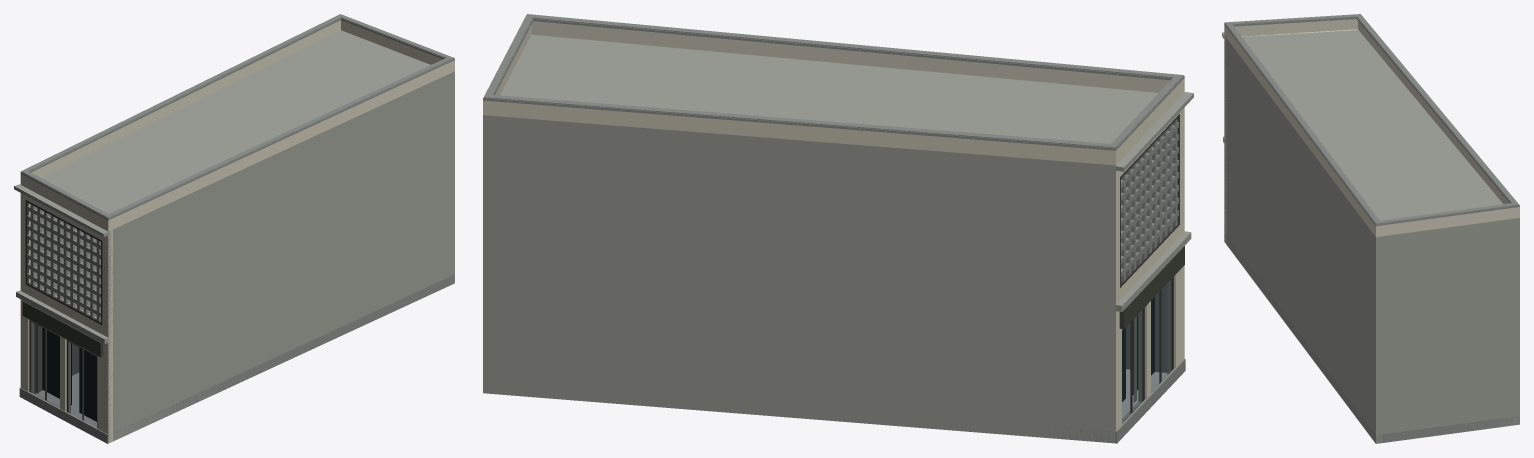
Rendered from building.glb.
3 renders of one model, left to right at view 1: azimuth 30°, elevation 25°; view 2: azimuth 150°, elevation 25°; view 3: azimuth 270°, elevation 25°, orthographic. The views are drawn at different scales.
Visible parts, largest first — view 1: main:0/edge1/z0/main:0/edge1/z0/wall_0_0/core0, roof/main:0/roof_slab#0001, roof/main:0/parapet#0001, main:0/edge0/z0/opening_u0.23_v3.58/perforated_screen#0001, main:0/edge0/z0/main:0/edge0/z0/wall_0_0/core0, roof/main:0/parapet_cap#0002, main:0/edge1/z0/plinth#0001, roof/main:0/parapet_cap#0001, main:0/edge0/z0/opening_u2.04_v0.08/glazing#0001, main:0/edge0/z0/opening_u0.35_v0.18/glazing#0001, main:0/edge3/z0/main:0/edge3/z0/wall_0_0/core0, main:0/edge0/z0/proj_panel_00/facade_projection_panel#0001 (+7 smaller); view 2: main:0/edge3/z0/main:0/edge3/z0/wall_0_0/core0, roof/main:0/roof_slab#0001, roof/main:0/parapet#0001, roof/main:0/parapet_cap#0002, main:0/edge0/z0/opening_u0.23_v3.58/perforated_screen#0001, main:0/edge0/z0/main:0/edge0/z0/wall_0_0/core0, roof/main:0/parapet_cap#0001, main:0/edge1/z0/main:0/edge1/z0/wall_0_0/core0, main:0/edge0/z0/opening_u2.04_v0.08/glazing#0001, main:0/edge0/z0/opening_u0.35_v0.18/glazing#0001, main:0/edge0/z0/proj_panel_00/facade_projection_panel#0001, main:0/edge0/z0/top_cornice#0001 (+2 smaller); view 3: main:0/edge1/z0/main:0/edge1/z0/wall_0_0/core0, main:0/edge2/z0/main:0/edge2/z0/wall_0_0/core0, roof/main:0/roof_slab#0001, roof/main:0/parapet#0001, roof/main:0/parapet_cap#0002, roof/main:0/parapet_cap#0001, main:0/edge1/z0/main:0/edge1/z0/wall_0_0/clip2, main:0/edge3/z0/main:0/edge3/z0/wall_0_0/clip1, main:0/edge2/z0/plinth#0001, main:0/edge1/z0/plinth#0001, main:0/edge0/z0/main:0/edge0/z0/wall_0_0/clip1, main:0/edge2/z0/main:0/edge2/z0/wall_0_0/clip1 (+1 smaller).
Part boxes in pixels (x1=…): main:0/edge1/z0/main:0/edge1/z0/wall_0_0/core0: x1=109, y1=78, x2=449, y2=442; roof/main:0/roof_slab#0001: x1=42, y1=31, x2=454, y2=215; roof/main:0/parapet#0001: x1=20, y1=20, x2=454, y2=231; main:0/edge0/z0/opening_u0.23_v3.58/perforated_screen#0001: x1=27, y1=204, x2=100, y2=321; main:0/edge0/z0/main:0/edge0/z0/wall_0_0/core0: x1=20, y1=193, x2=107, y2=433; roof/main:0/parapet_cap#0002: x1=21, y1=14, x2=453, y2=218; main:0/edge1/z0/plinth#0001: x1=109, y1=274, x2=454, y2=441; roof/main:0/parapet_cap#0001: x1=20, y1=18, x2=454, y2=220; main:0/edge0/z0/opening_u2.04_v0.08/glazing#0001: x1=69, y1=342, x2=96, y2=427; main:0/edge0/z0/opening_u0.35_v0.18/glazing#0001: x1=31, y1=322, x2=59, y2=407; main:0/edge3/z0/main:0/edge3/z0/wall_0_0/core0: x1=34, y1=30, x2=341, y2=393; main:0/edge0/z0/proj_panel_00/facade_projection_panel#0001: x1=22, y1=301, x2=103, y2=357; main:0/edge3/z0/main:0/edge3/z0/wall_0_0/core0: x1=483, y1=115, x2=1115, y2=443; roof/main:0/roof_slab#0001: x1=503, y1=34, x2=1157, y2=170; roof/main:0/parapet#0001: x1=483, y1=21, x2=1184, y2=165; roof/main:0/parapet_cap#0002: x1=484, y1=14, x2=1183, y2=148; main:0/edge0/z0/opening_u0.23_v3.58/perforated_screen#0001: x1=1121, y1=119, x2=1178, y2=281; main:0/edge0/z0/main:0/edge0/z0/wall_0_0/core0: x1=1116, y1=108, x2=1183, y2=431; roof/main:0/parapet_cap#0001: x1=483, y1=15, x2=1184, y2=150; main:0/edge1/z0/main:0/edge1/z0/wall_0_0/core0: x1=531, y1=35, x2=1166, y2=372; main:0/edge0/z0/opening_u2.04_v0.08/glazing#0001: x1=1151, y1=280, x2=1171, y2=392; main:0/edge0/z0/opening_u0.35_v0.18/glazing#0001: x1=1122, y1=311, x2=1142, y2=422; main:0/edge0/z0/proj_panel_00/facade_projection_panel#0001: x1=1119, y1=246, x2=1184, y2=329; main:0/edge0/z0/top_cornice#0001: x1=1115, y1=92, x2=1193, y2=171; main:0/edge1/z0/main:0/edge1/z0/wall_0_0/core0: x1=1224, y1=36, x2=1375, y2=443; main:0/edge2/z0/main:0/edge2/z0/wall_0_0/core0: x1=1382, y1=218, x2=1519, y2=440; roof/main:0/roof_slab#0001: x1=1229, y1=30, x2=1519, y2=241; roof/main:0/parapet#0001: x1=1224, y1=19, x2=1519, y2=236; roof/main:0/parapet_cap#0002: x1=1225, y1=14, x2=1518, y2=224; roof/main:0/parapet_cap#0001: x1=1224, y1=17, x2=1519, y2=226; main:0/edge1/z0/main:0/edge1/z0/wall_0_0/clip2: x1=1376, y1=236, x2=1382, y2=443; main:0/edge3/z0/main:0/edge3/z0/wall_0_0/clip1: x1=1513, y1=218, x2=1519, y2=425; main:0/edge2/z0/plinth#0001: x1=1375, y1=416, x2=1519, y2=443; main:0/edge1/z0/plinth#0001: x1=1225, y1=234, x2=1376, y2=442; main:0/edge0/z0/main:0/edge0/z0/wall_0_0/clip1: x1=1224, y1=35, x2=1226, y2=244; main:0/edge2/z0/main:0/edge2/z0/wall_0_0/clip1: x1=1373, y1=235, x2=1375, y2=438.
Size of the model in its own units: 14.6 by 7.02 by 8.61.
